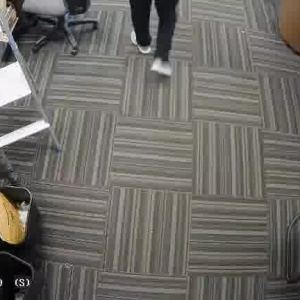person: (121, 3, 190, 86)
